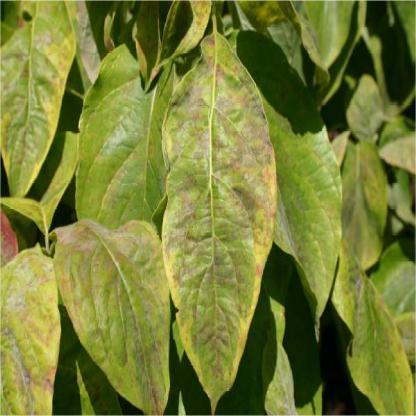Bell_pepper leaf: (162, 29, 278, 415), (261, 34, 344, 339), (50, 223, 174, 415), (69, 53, 183, 228), (334, 236, 416, 412), (0, 9, 76, 197), (0, 238, 58, 415)
